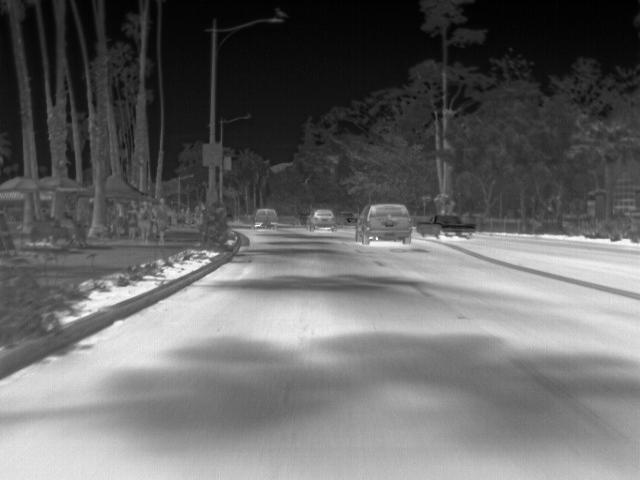car: (354, 200, 418, 244), (417, 211, 477, 240), (306, 207, 337, 232), (251, 207, 279, 229)
person: (153, 198, 173, 246), (139, 198, 155, 241), (126, 198, 141, 240)
